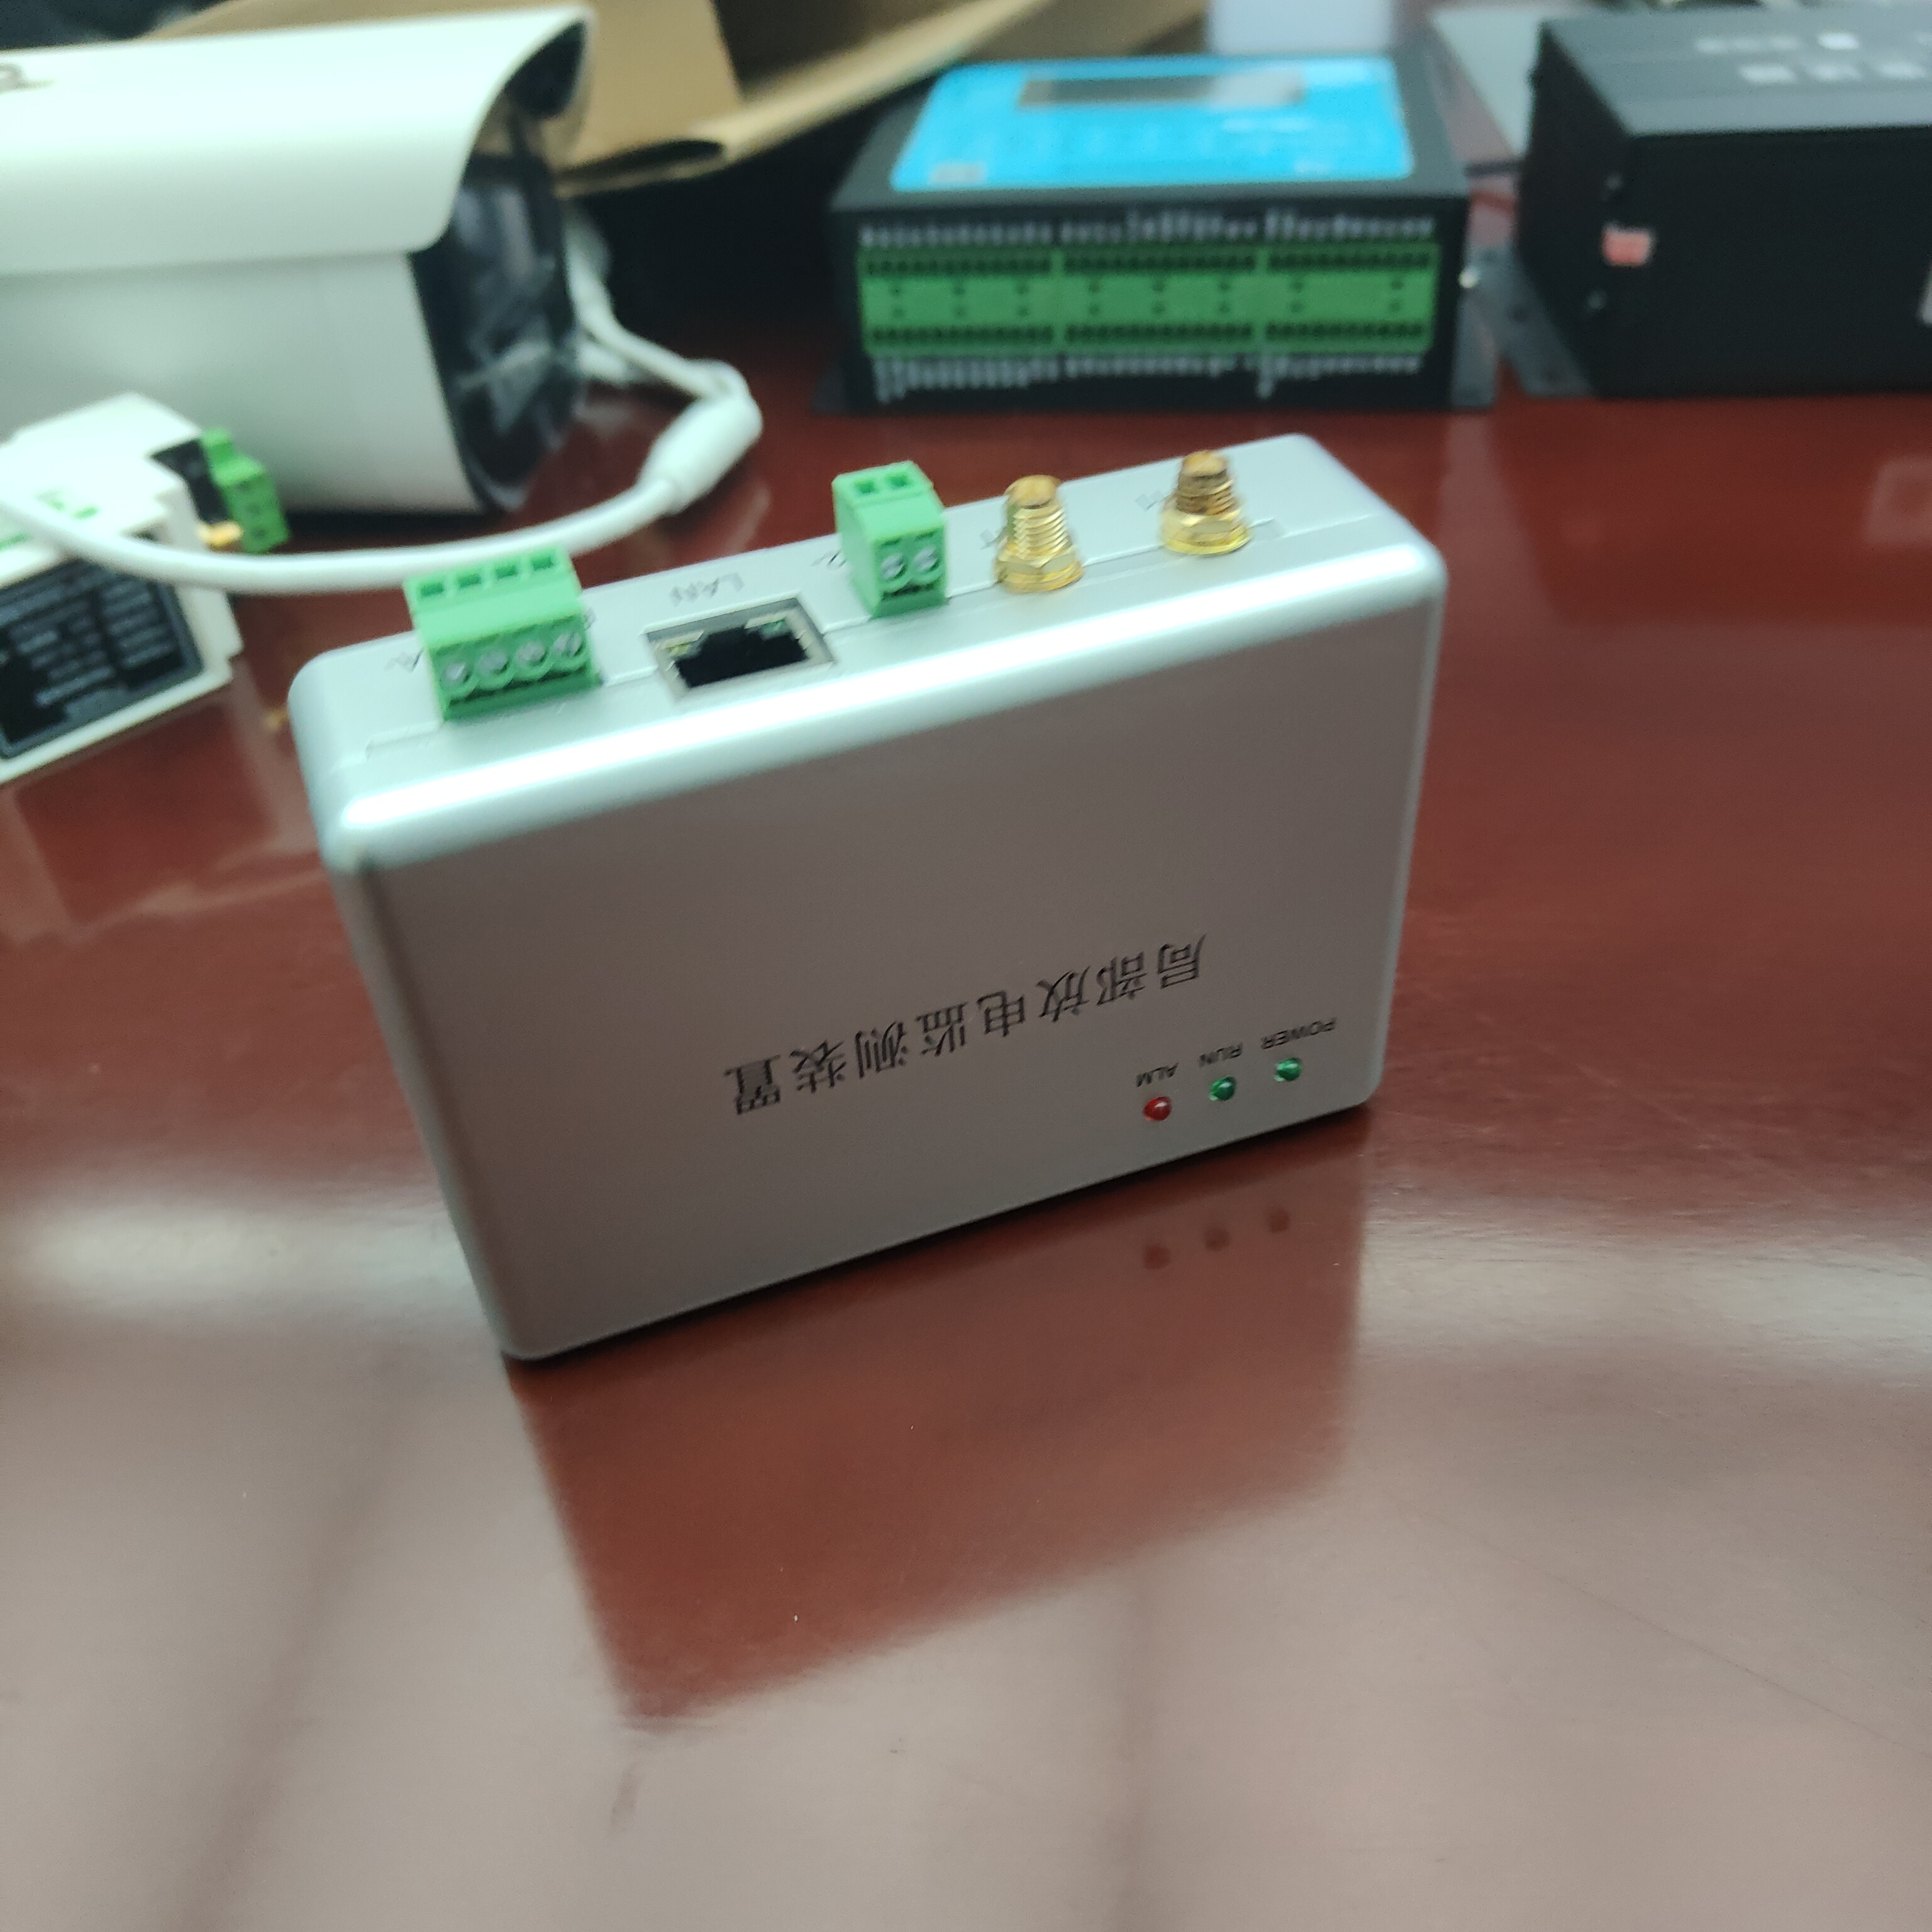dgjs: (0, 425, 292, 789)
hkws: (0, 19, 683, 474)
jbfdjc: (310, 515, 1456, 1316)
qtbsq: (1523, 4, 1921, 387)
slyczd: (814, 34, 1490, 423)
